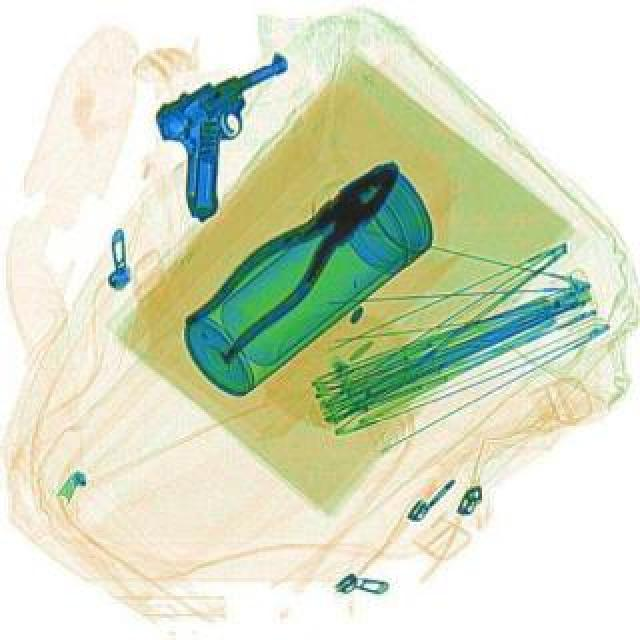gun: (134, 48, 342, 226)
wrench: (174, 138, 422, 368)
